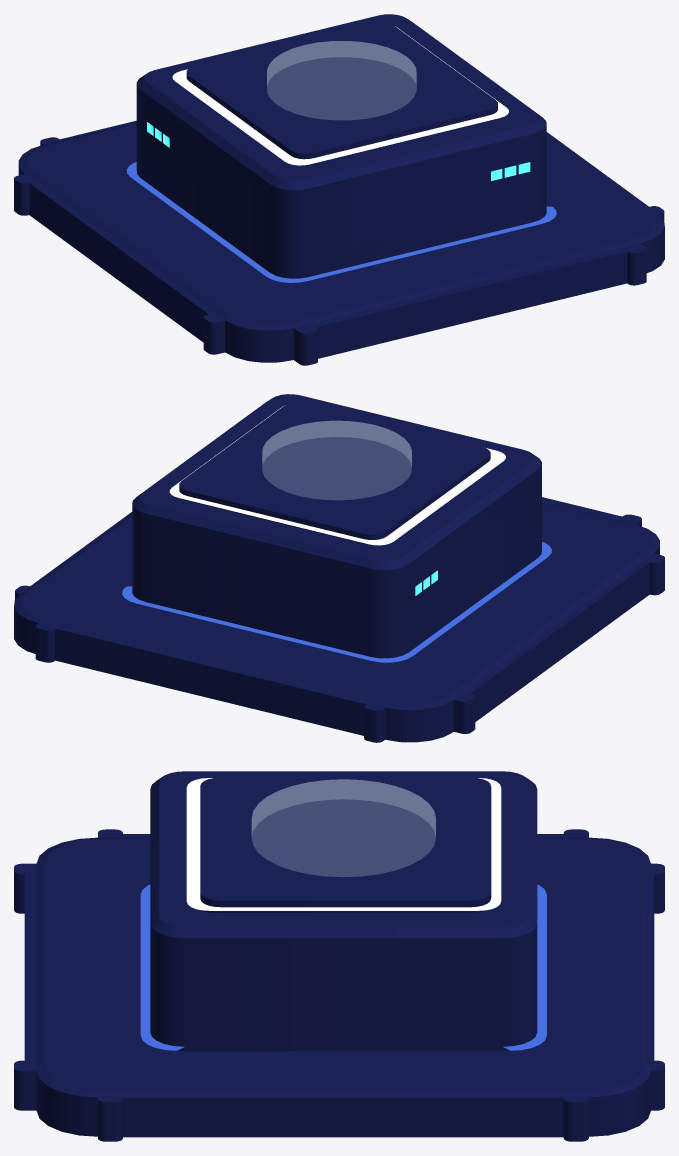
Rendered from Work_stuff_11.glb.
3 renders of one model, top to bottom at view 1: azimuth 30°, elevation 25°; view 2: azimuth 150°, elevation 25°; view 3: azimuth 270°, elevation 25°, orthographic. The views are drawn at different scales.
Visible parts, largest first — view 1: Main_platform.001, Main_platform, Main_platform.005, Cube.001, Main_platform.002, Cube.003, Main_platform.007, Main_platform.008; view 2: Main_platform.001, Main_platform, Main_platform.005, Cube.002, Main_platform.002, Cube.003, Main_platform.007, Main_platform.008, Cube.001; view 3: Main_platform, Main_platform.001, Main_platform.005, Cube.004, Main_platform.002, Main_platform.007, Cube.001, Main_platform.008, Cube.002, Cube.003.
Boxes of the visible parts, box(x1,y1,x2,y2) form: Main_platform.001: box(136, 14, 546, 278); Main_platform: box(18, 122, 664, 362); Main_platform.005: box(186, 22, 497, 165); Cube.001: box(293, 243, 646, 365); Main_platform.002: box(267, 41, 416, 119); Cube.003: box(14, 174, 225, 354); Main_platform.007: box(172, 26, 508, 165); Main_platform.008: box(126, 162, 556, 282); Main_platform.001: box(132, 394, 541, 658); Main_platform: box(14, 502, 659, 742); Main_platform.005: box(179, 403, 490, 545); Cube.002: box(35, 623, 384, 742); Main_platform.002: box(262, 421, 411, 499); Cube.003: box(453, 553, 664, 733); Main_platform.007: box(169, 405, 505, 545); Main_platform.008: box(122, 542, 551, 662); Cube.001: box(542, 497, 641, 526); Main_platform: box(36, 837, 650, 1136); Main_platform.001: box(150, 771, 537, 1050); Main_platform.005: box(200, 777, 491, 912); Cube.004: box(98, 1097, 588, 1141); Main_platform.002: box(252, 779, 435, 876); Main_platform.007: box(186, 778, 501, 910); Cube.001: box(14, 863, 36, 1110); Main_platform.008: box(140, 884, 546, 1050); Cube.002: box(651, 863, 664, 1110); Cube.003: box(98, 829, 588, 837).
Bounding box in the file's own units: 9.59 × 3.09 × 9.67.
